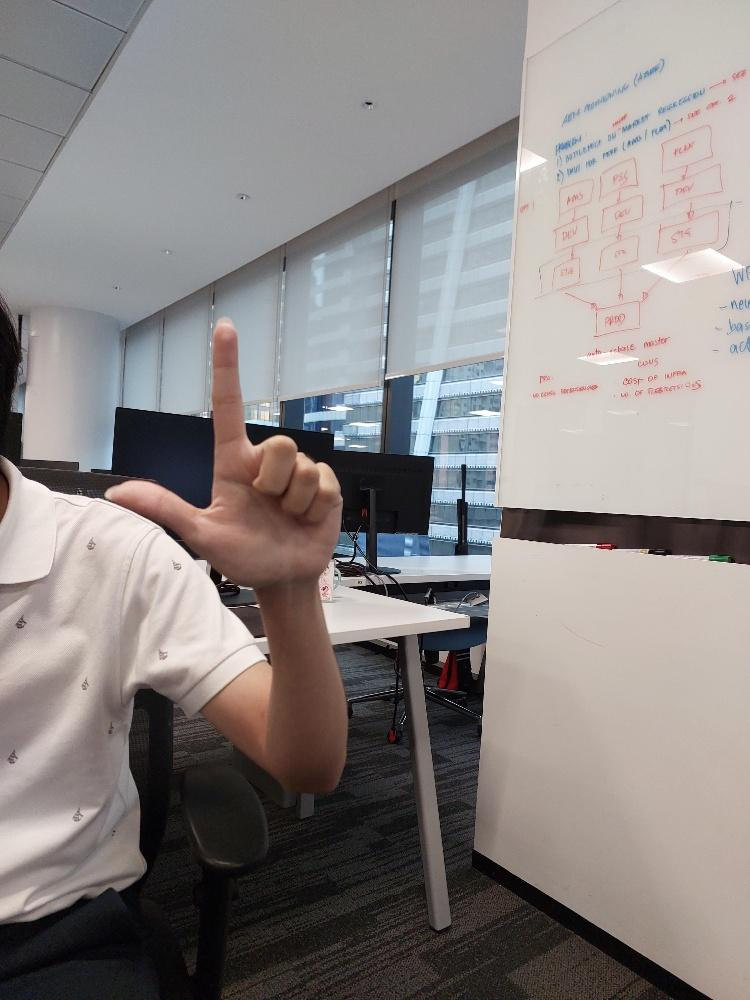l: (104, 311, 339, 589)
